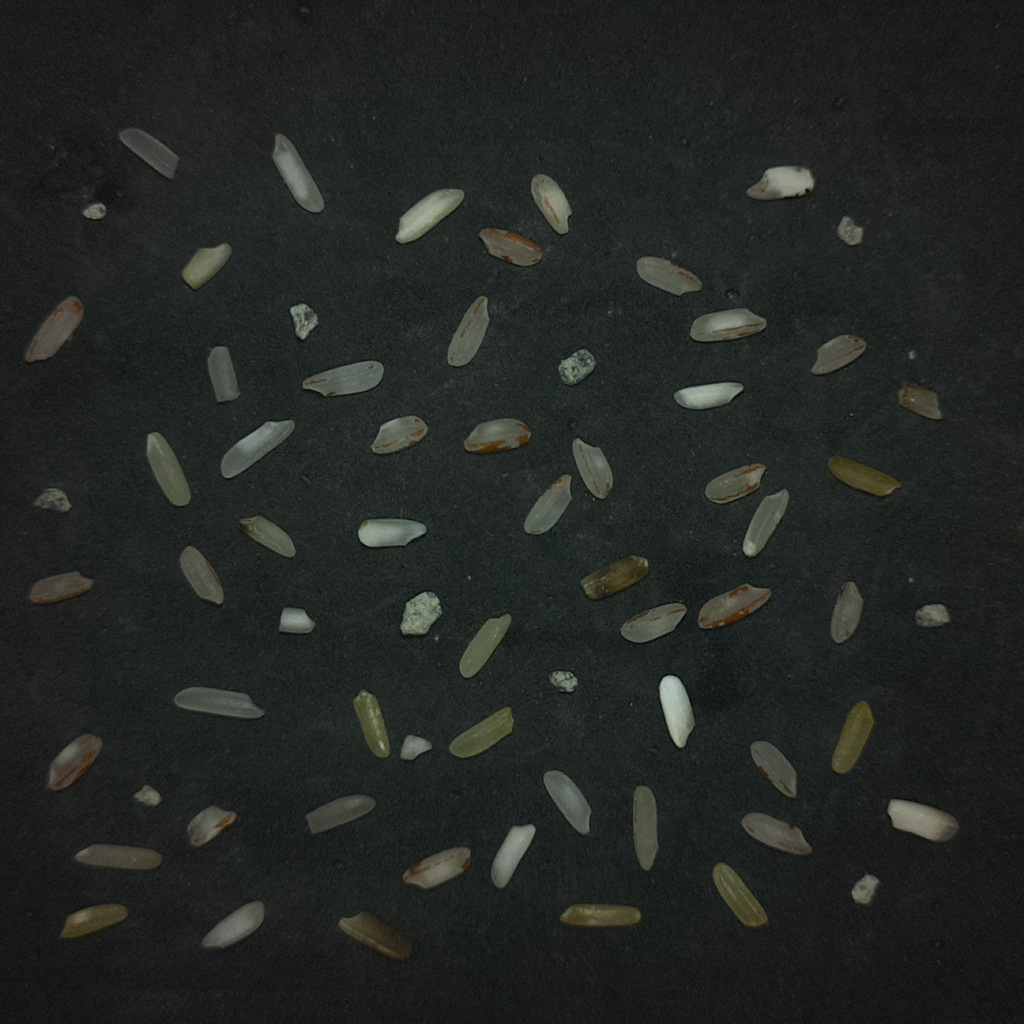broken: (459, 614, 511, 678), (207, 346, 239, 402)
chalky: (395, 188, 464, 243), (273, 136, 320, 210), (887, 799, 958, 841), (201, 901, 264, 948), (491, 824, 535, 888), (659, 675, 692, 746), (182, 243, 231, 289), (746, 166, 814, 199), (357, 518, 426, 547), (673, 382, 743, 409), (278, 607, 315, 634)
damaged: (338, 912, 411, 959), (449, 706, 513, 758), (580, 555, 649, 599), (239, 515, 295, 557), (559, 903, 640, 926), (898, 382, 941, 419)
discolored: (712, 862, 767, 927), (831, 701, 874, 773), (828, 456, 901, 496), (353, 690, 389, 758), (60, 903, 127, 937), (74, 844, 161, 870)
foreign: (400, 592, 441, 635), (558, 349, 595, 385), (289, 303, 318, 339), (33, 487, 71, 512), (851, 874, 879, 905), (399, 734, 432, 759), (836, 215, 863, 245), (915, 604, 950, 627), (549, 670, 578, 692), (134, 784, 161, 806), (81, 202, 106, 220)
red: (24, 296, 83, 361), (698, 584, 770, 628), (48, 733, 101, 790), (302, 360, 383, 397), (741, 812, 811, 854), (523, 474, 571, 535), (447, 296, 488, 366), (403, 847, 470, 888), (750, 741, 796, 797), (620, 604, 686, 643), (179, 546, 223, 604), (690, 308, 766, 341), (636, 257, 700, 295), (531, 174, 571, 234), (572, 438, 612, 498), (463, 418, 531, 453), (479, 228, 541, 266), (705, 464, 765, 503), (371, 415, 427, 454), (810, 335, 865, 374), (29, 571, 93, 604), (186, 805, 235, 846), (831, 582, 862, 643)
whole: (221, 420, 293, 476), (147, 432, 190, 506), (543, 770, 591, 834), (742, 489, 787, 556), (120, 127, 177, 176), (306, 794, 375, 833), (175, 687, 263, 717), (633, 785, 658, 870)
